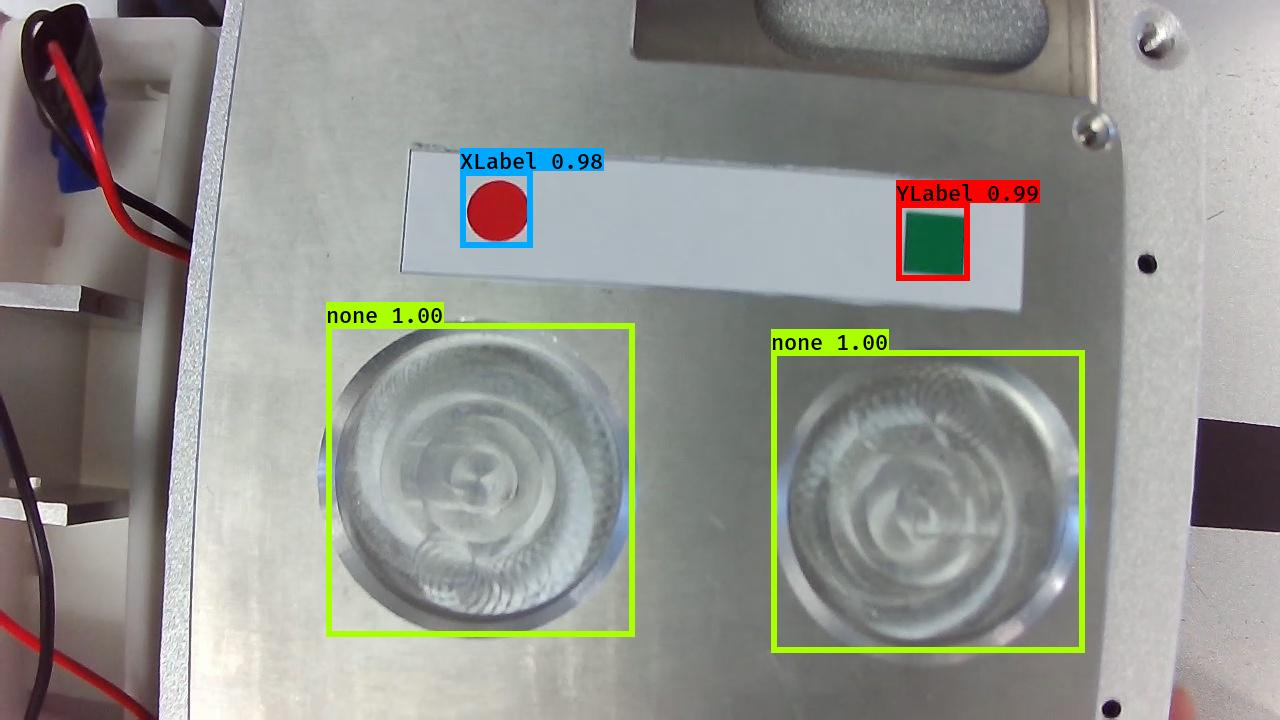XLabel: (462, 176, 534, 245)
YLabel: (901, 207, 970, 283)
none: (313, 312, 641, 645), (764, 341, 1087, 669)
